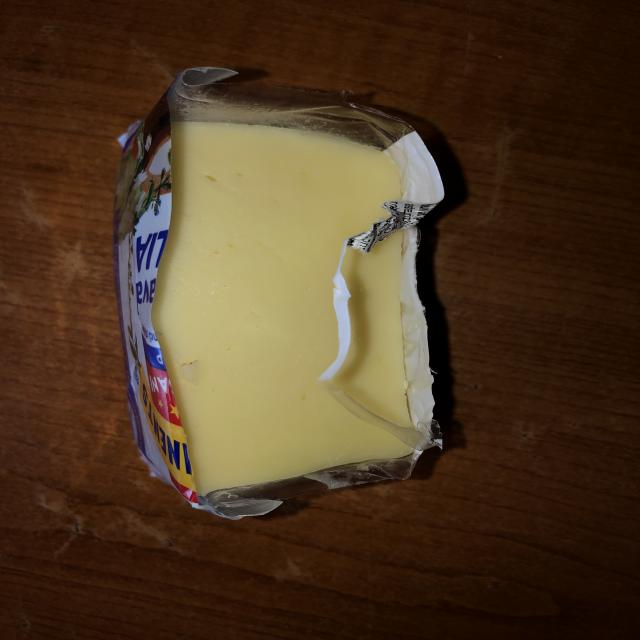cheese: (117, 116, 438, 501)
